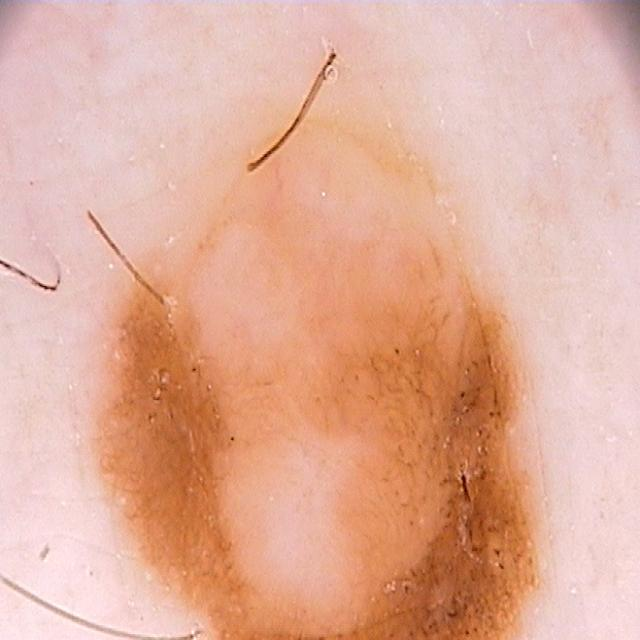Melanoma: (80, 133, 568, 640)
